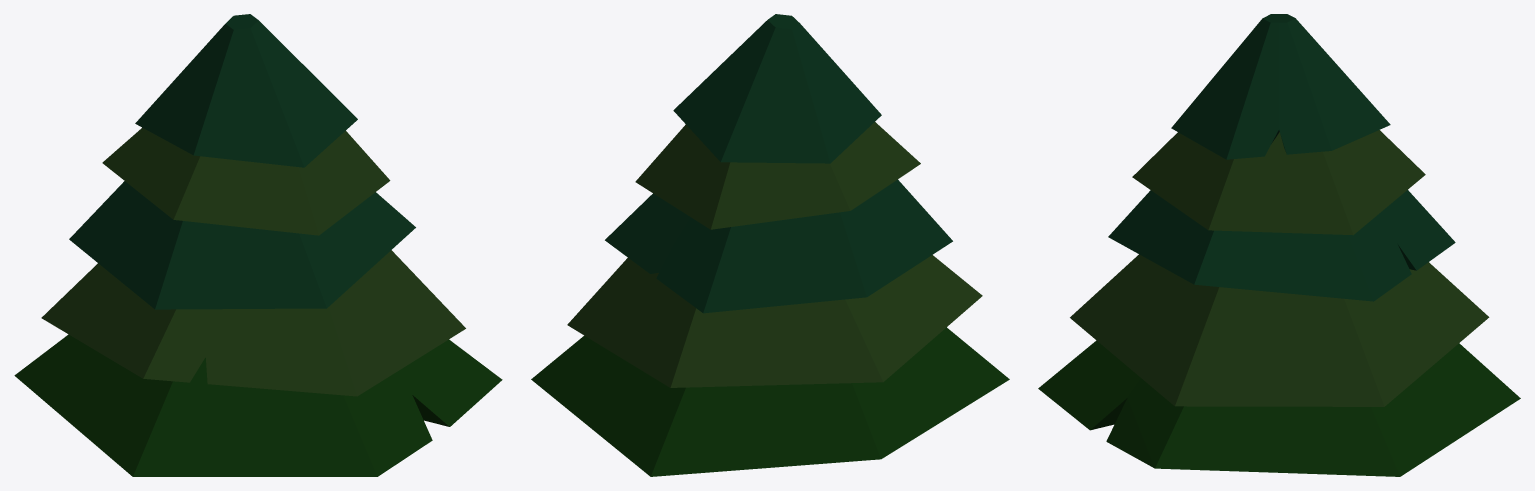
The model's file is Tree8.1.fbx.
3 renders of one model, left to right at view 1: azimuth 30°, elevation 25°; view 2: azimuth 150°, elevation 25°; view 3: azimuth 270°, elevation 25°, orthographic. The views are drawn at different scales.
Parts seen in each view (by area): view 1: Cylinder.018; view 2: Cylinder.018; view 3: Cylinder.018.
Part boxes in pixels (bbox=[...]): Cylinder.018: bbox=[14, 14, 502, 476]; Cylinder.018: bbox=[531, 14, 1009, 476]; Cylinder.018: bbox=[1038, 14, 1520, 476].
Bounding box in the file's own units: 497 × 555 × 573.
4 materials, 4 textured.
